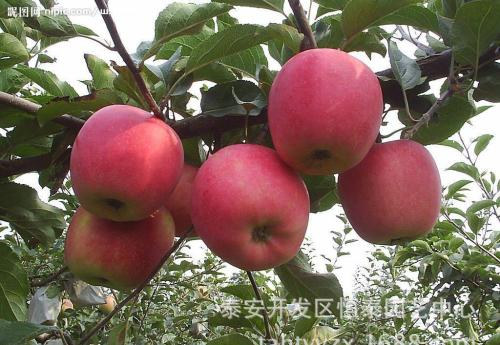apple: (190, 144, 311, 272), (267, 48, 383, 176), (69, 103, 186, 222)
obscured(0)_apple: (334, 139, 443, 247)
obscured(2)_apple: (62, 193, 177, 290)
